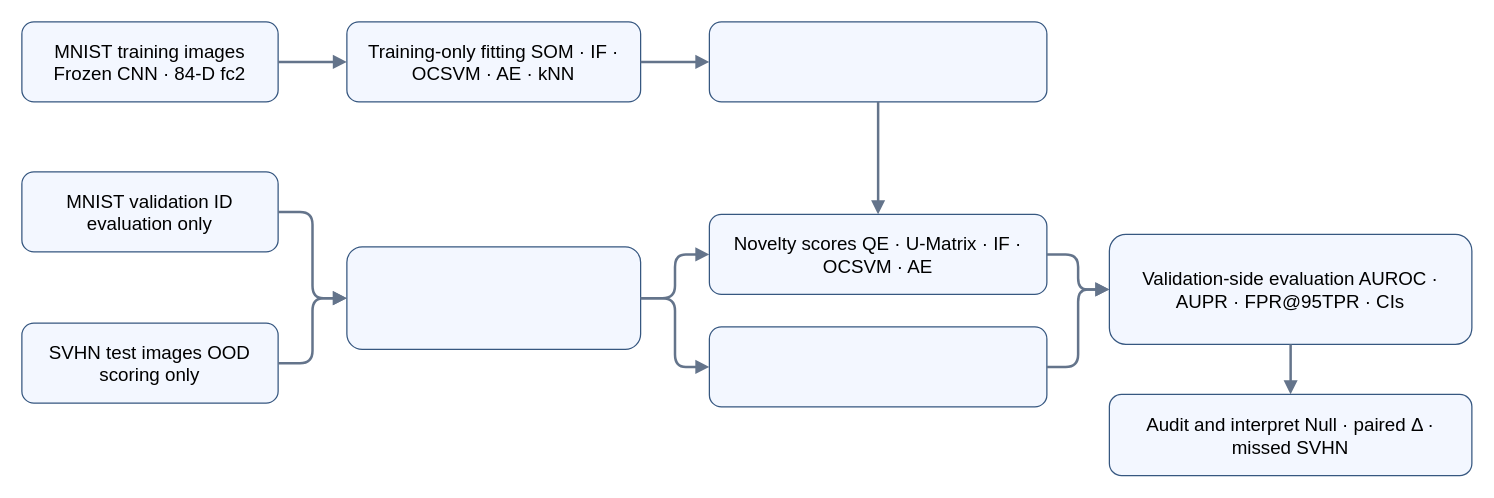
This 1494x498 diagram has some shape labels left out. The shapes that lost their labels are listed below. From the top down, each one's centre as x and y in pixels, then its label:
At point (877, 61): "Frozen prototypes / models 95th-percentile train QE threshold".
At point (493, 297): "ID / OOD embeddings Frozen CNN (same 84-D layer)".
At point (877, 366): "CNN-based baselines MSP · Energy · Mahalanobis · kNN".
